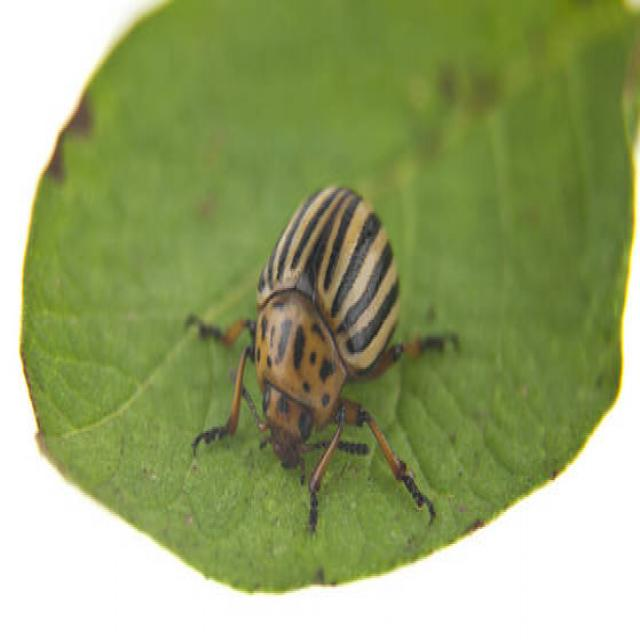ShuCaiHuaBanChong-Grown-: (224, 158, 434, 500)
